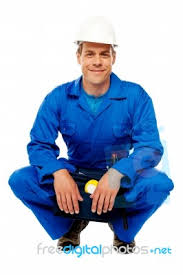Person_wearing_helmet: (69, 15, 123, 57)
